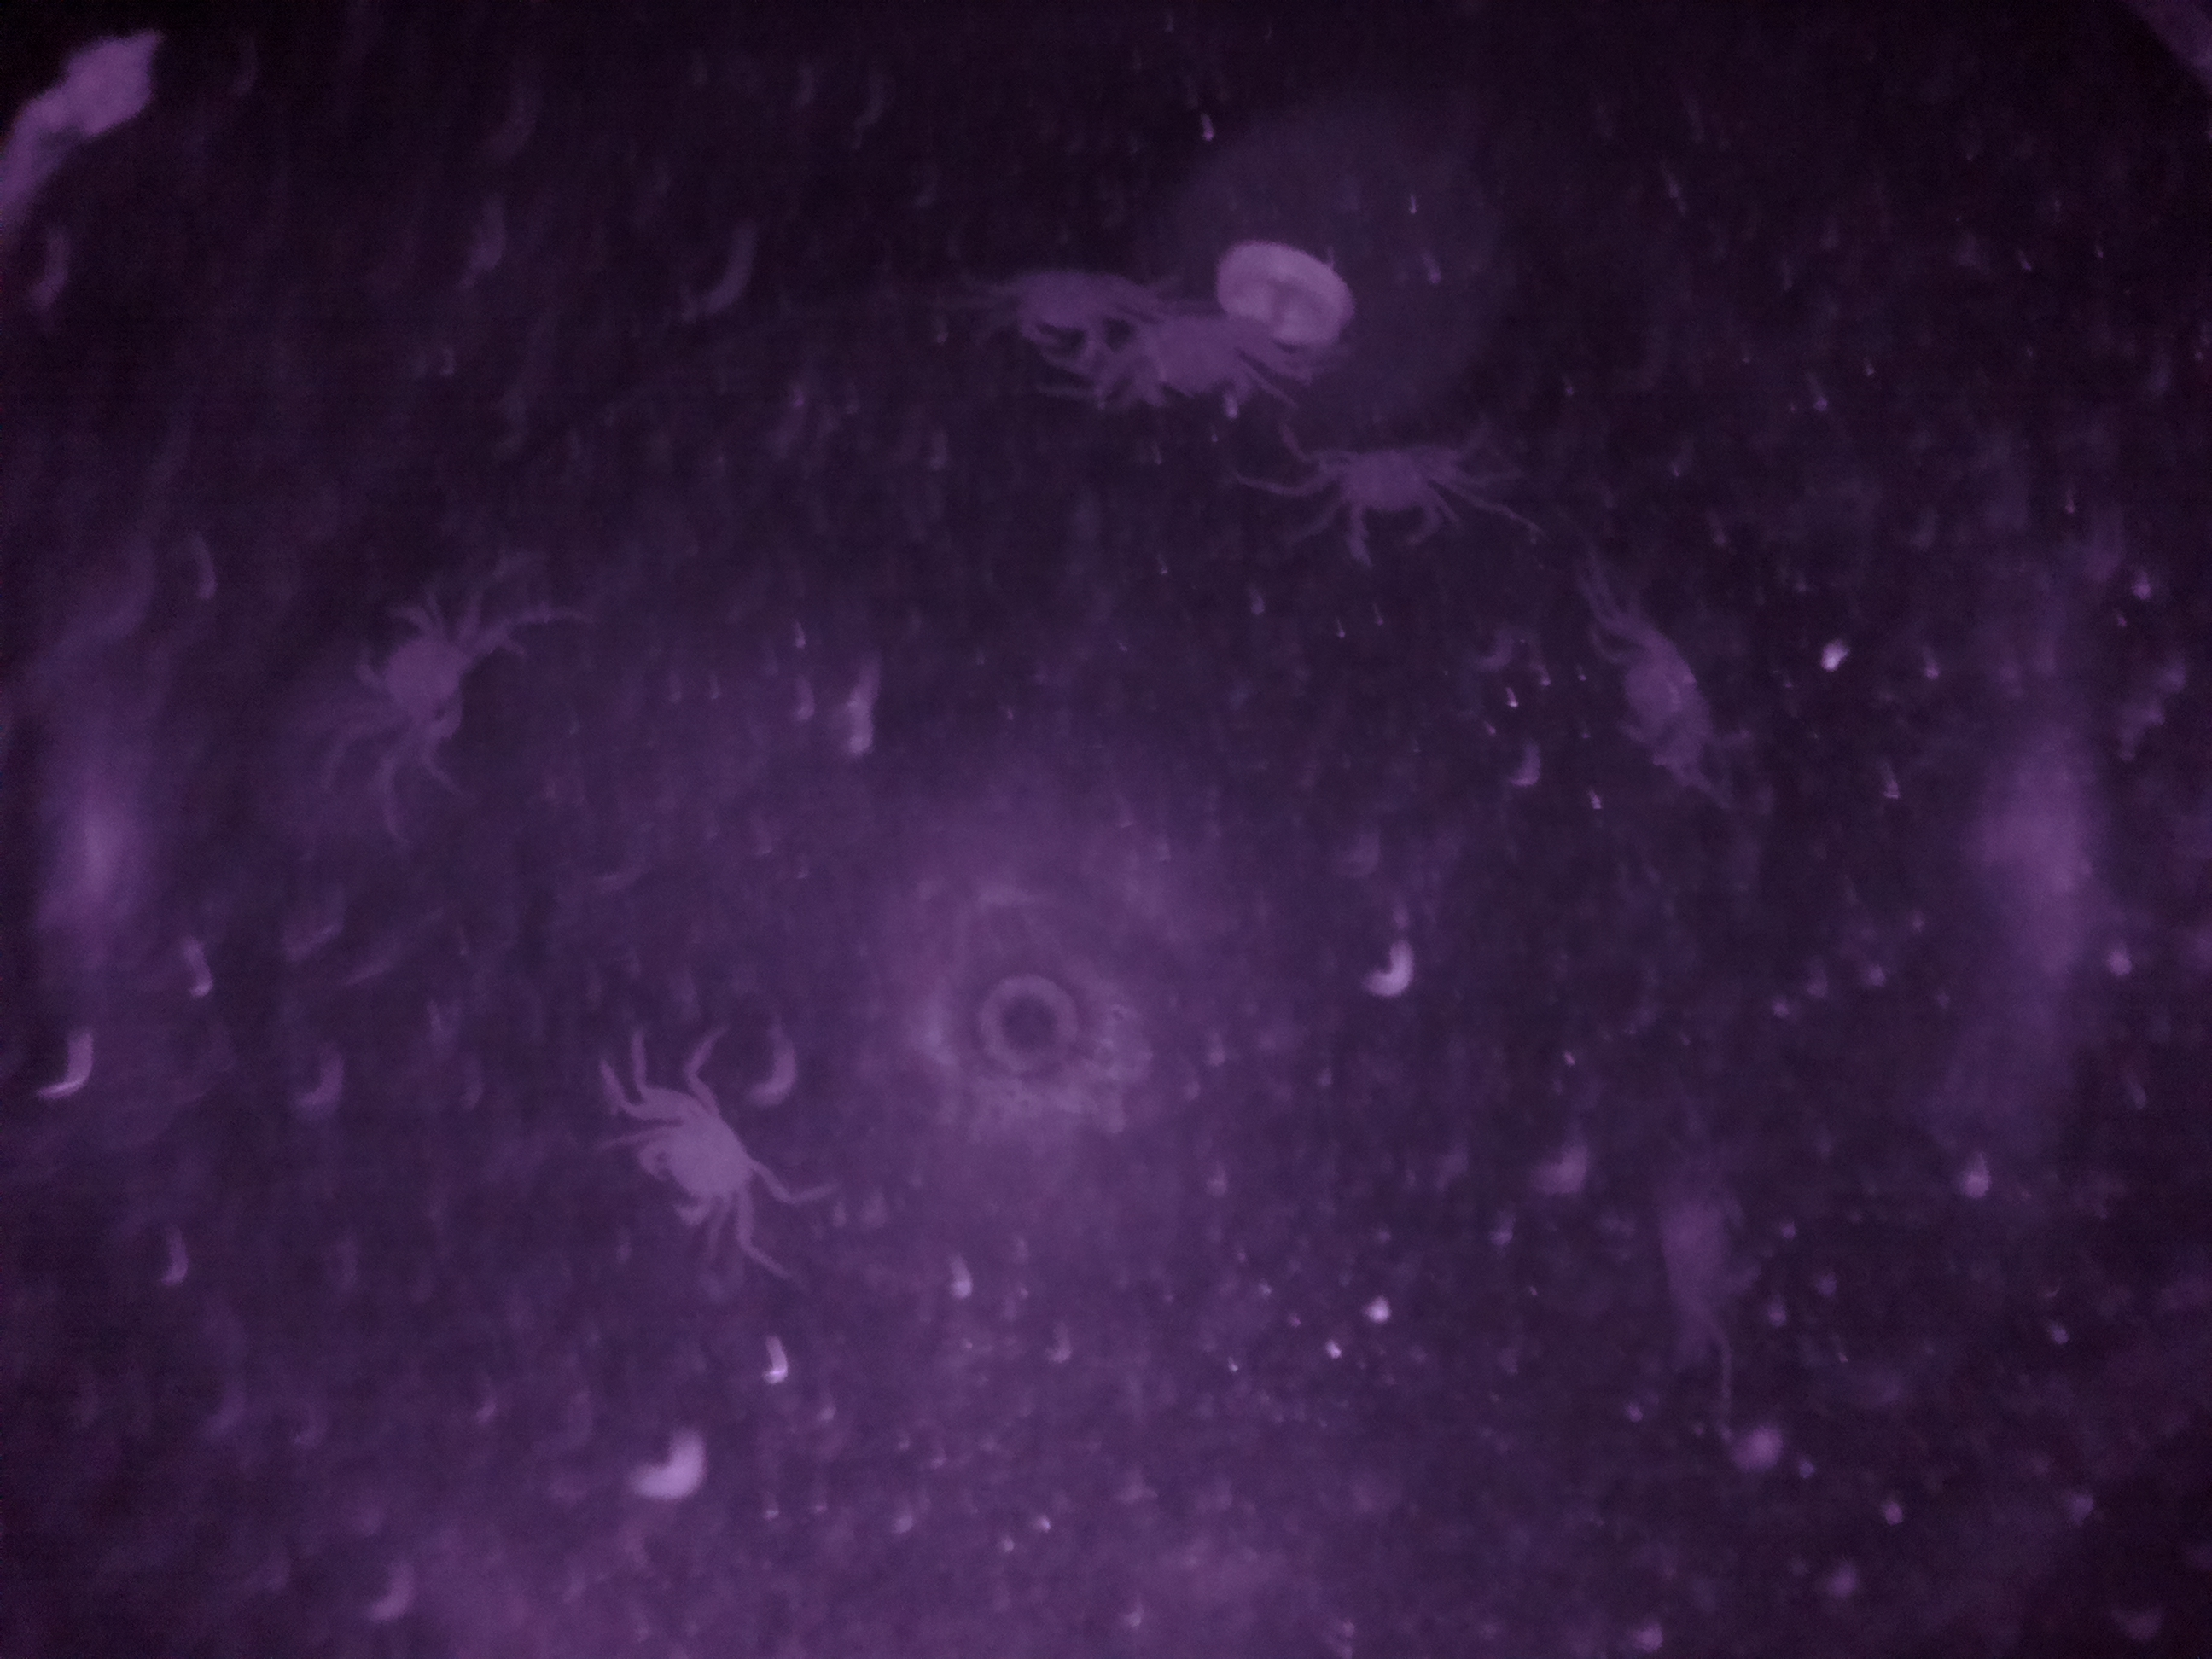Crab: (596, 1032, 791, 1267), (1271, 406, 1505, 575)
